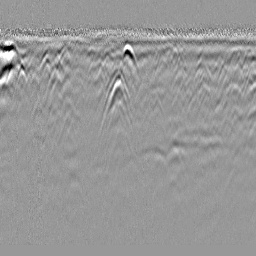cavity: (119, 40, 141, 80)
